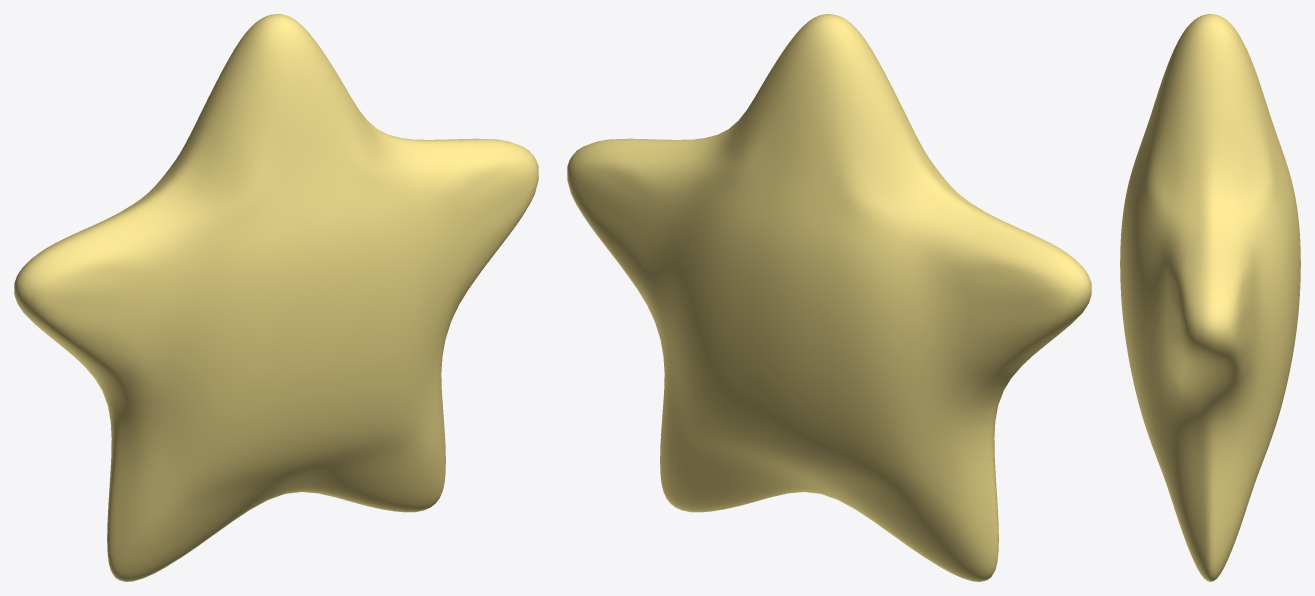
Rendered from kirbyStar.glb.
3 views of the same model, side by side, from view 1: azimuth 30°, elevation 25°; view 2: azimuth 150°, elevation 25°; view 3: azimuth 270°, elevation 25° (orthographic). The views are drawn at different scales.
Parts seen in each view (by area): view 1: Roundcube; view 2: Roundcube; view 3: Roundcube.
Part boxes in pixels (box(x1,y1,x2,y2)): Roundcube: box(14, 14, 538, 581); Roundcube: box(567, 14, 1091, 581); Roundcube: box(1120, 14, 1300, 581).
Size of the model in its own units: 1.53 by 1.49 by 0.4912.
Materials: 1 (1 with a texture image).
